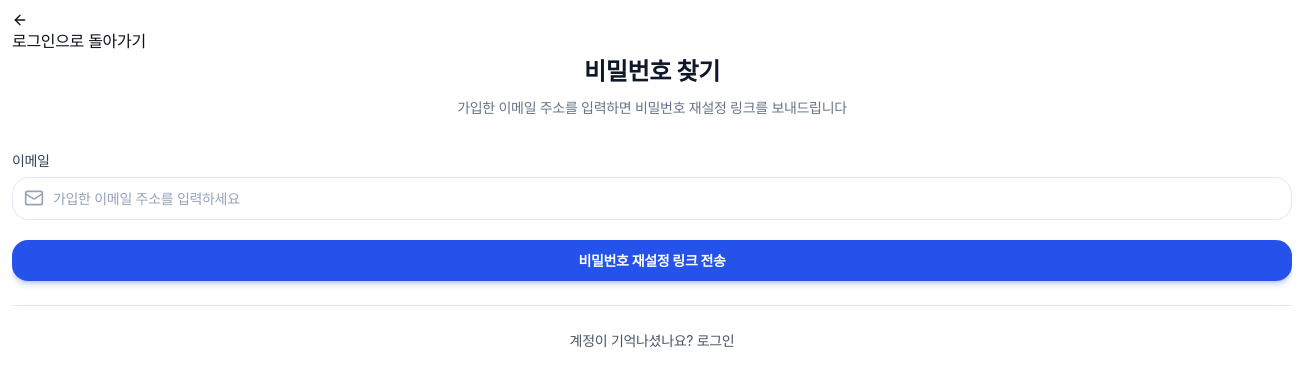
Test: ForgotPasswordPage › 로딩 상태 › 이메일 전송 중에는 버튼이 비활성화된다
In the field labelled "이메일": (652, 198) [12,177,1292,220], type "test@example.com"
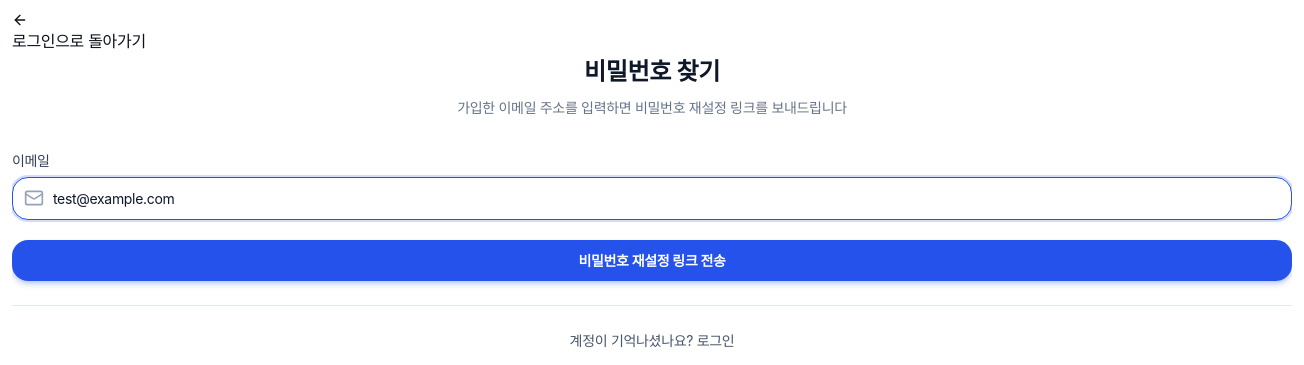
Click the button "비밀번호 재설정 링크 전송": (652, 260) [12,240,1292,281]
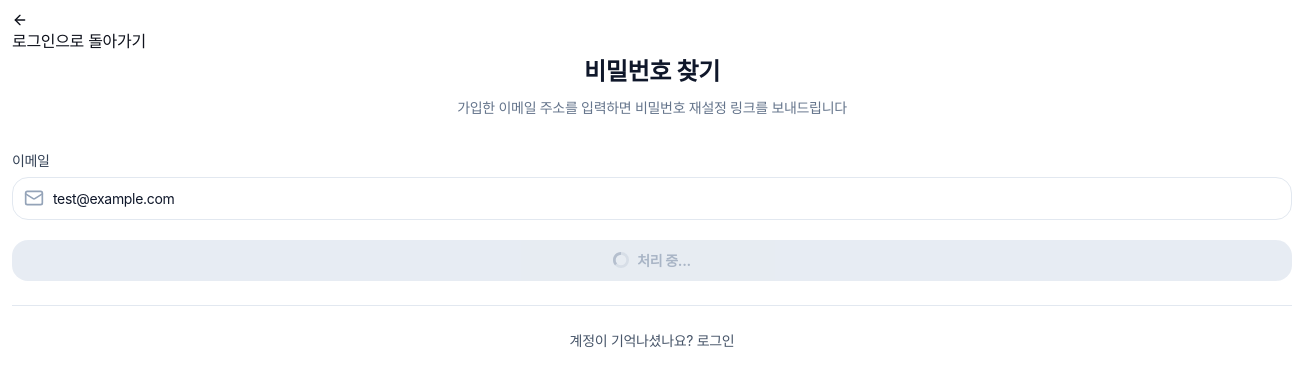
Now the button "처리 중..." is disabled, box [12,240,1292,281]
